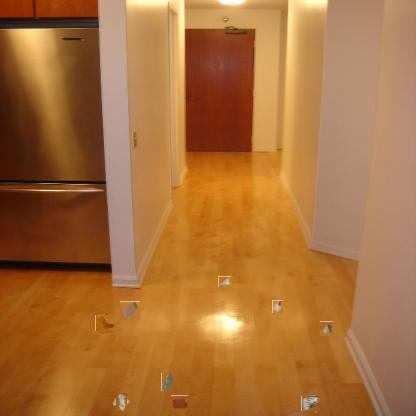dirty: (121, 301, 140, 321), (302, 395, 320, 412), (96, 315, 114, 332), (319, 322, 334, 336), (114, 395, 128, 409), (218, 276, 231, 287), (272, 300, 283, 313)
liquid: (171, 395, 188, 411), (161, 373, 174, 391)
